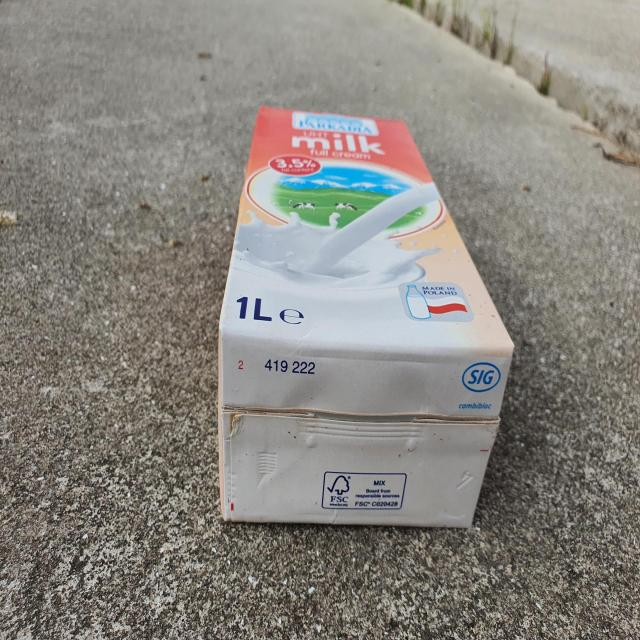paperpack: (219, 107, 514, 527)
